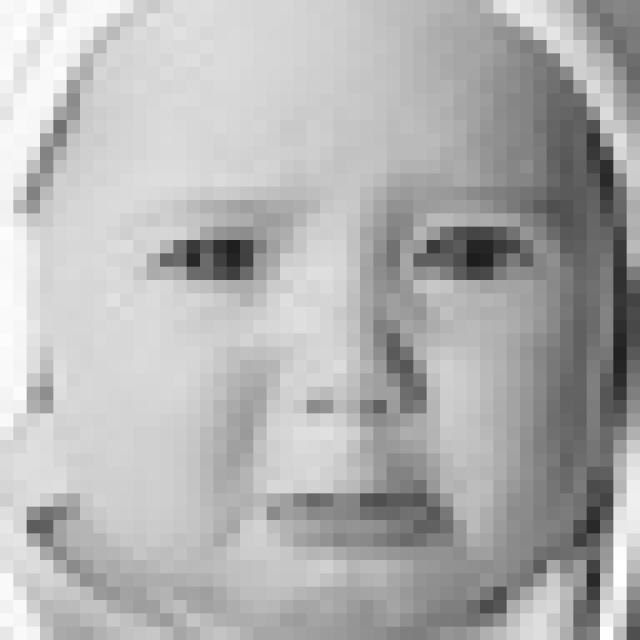sad: (130, 183, 579, 574)
